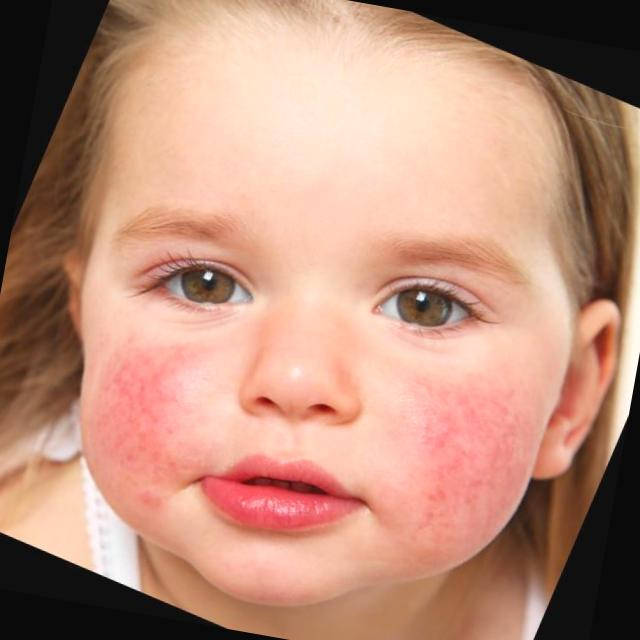skinredness: (340, 346, 564, 570), (46, 301, 245, 519)
